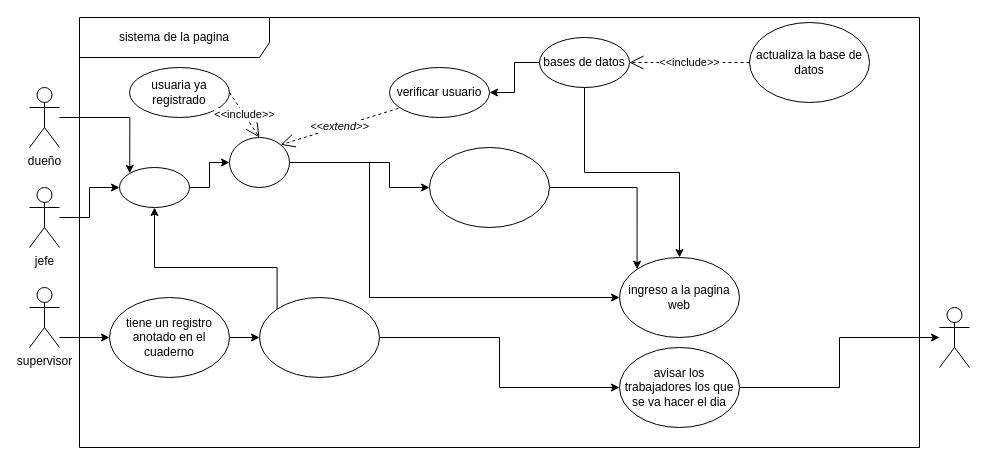
Some shapes in this 998 by 465 pixel diagram are drawn without their labels. The centre of each missing label's shape, as x and y in pixels:
"editar, borrar y guardar" belongs at point (489, 187).
"empleado" belongs at point (954, 337).
"login" belongs at point (259, 162).
"subir el registro a la pagina" belongs at point (319, 337).
"usuarios" belongs at point (154, 187).
